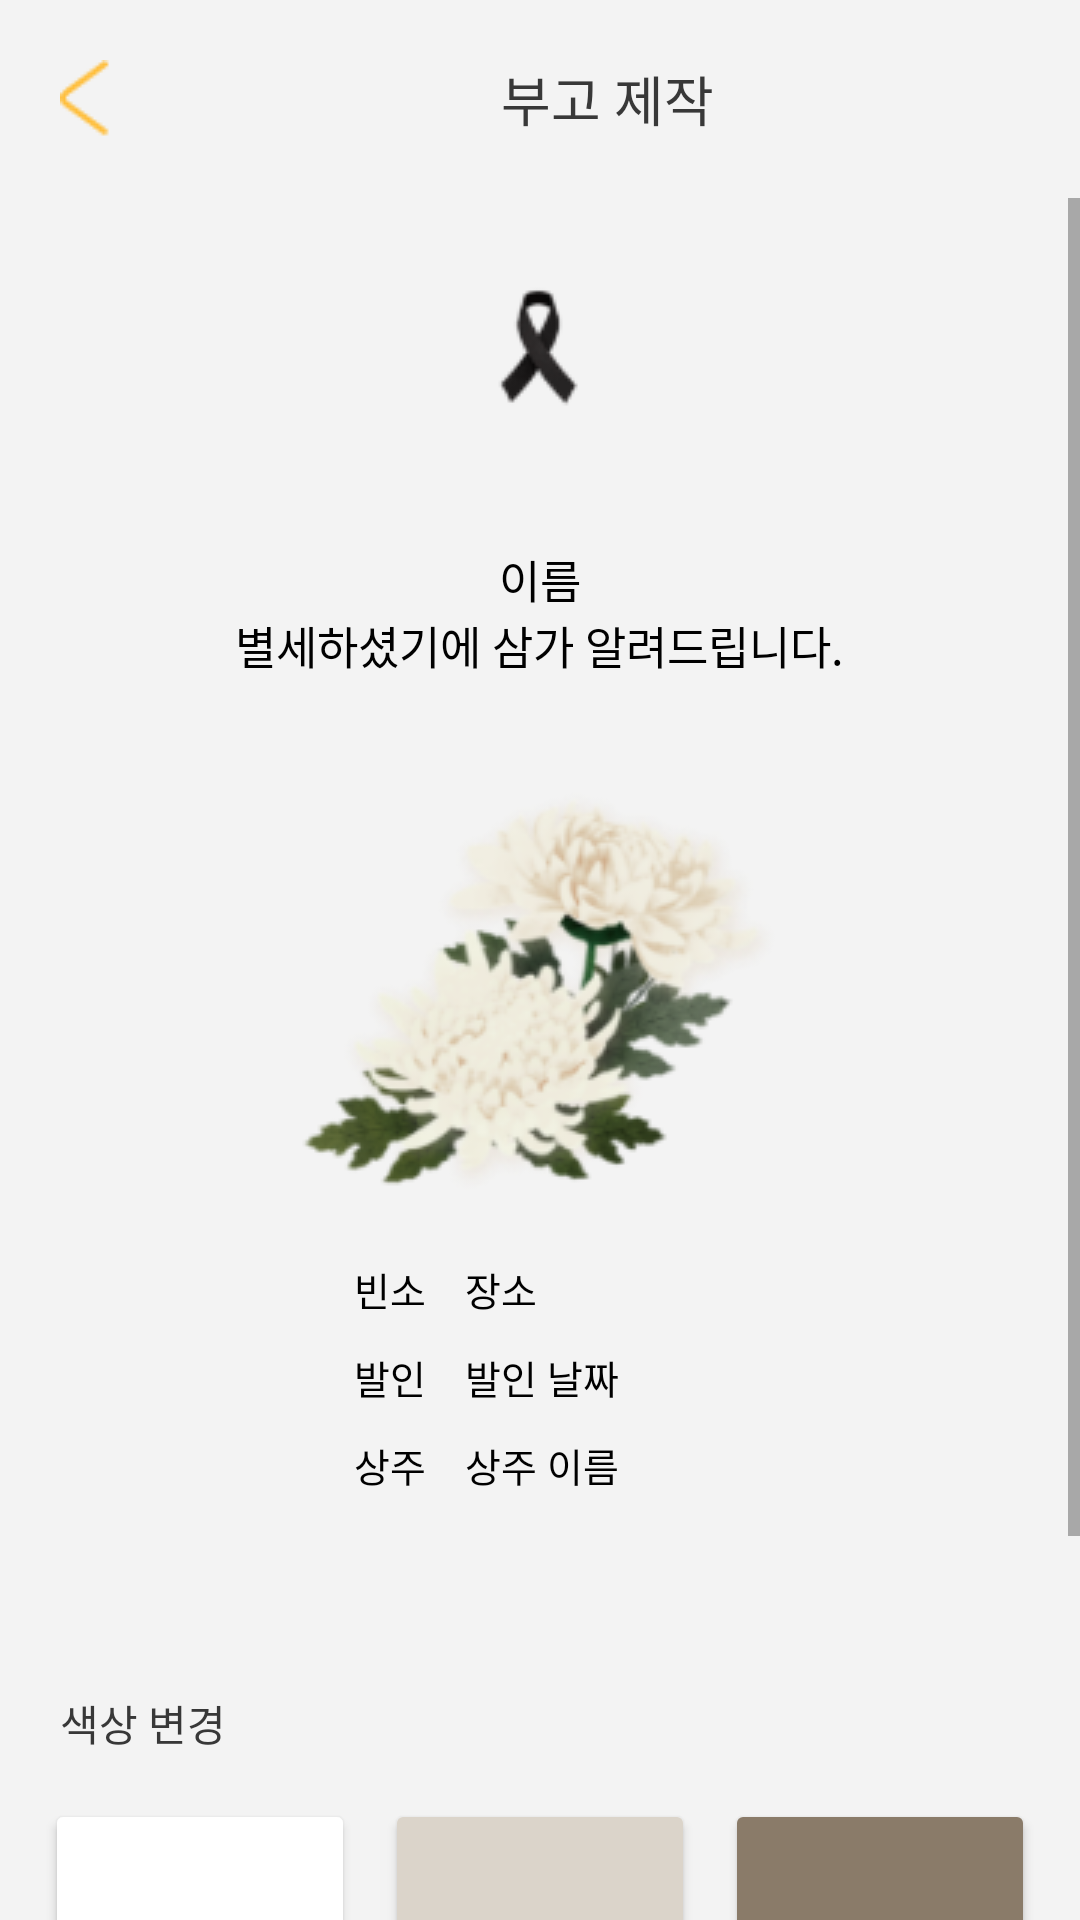

Screen size 1080w x 1920h. Icon name, then its center in pixels as (x=x, y=y):
leftallow: (x=84, y=98)
